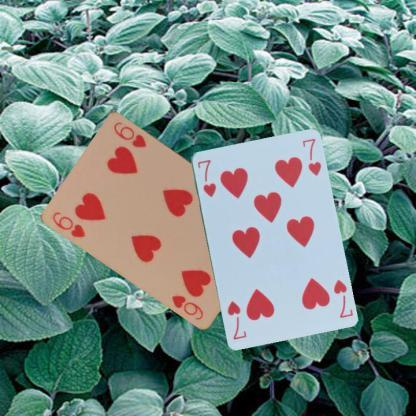6h: (48, 209, 88, 239)
7h: (194, 156, 217, 198), (330, 277, 353, 319)
